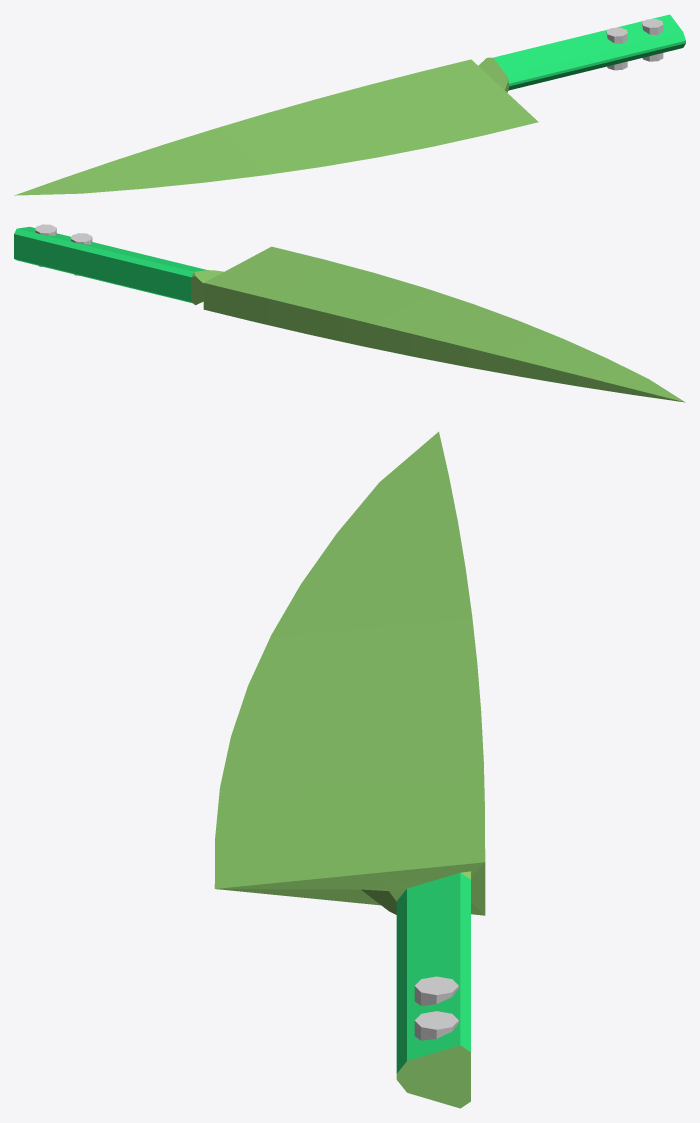
Rendered from Sharp Knife.fbx.
The picture shows the model from 3 angles, top to bottom: view 1: azimuth 30°, elevation 25°; view 2: azimuth 150°, elevation 25°; view 3: azimuth 270°, elevation 25°; orthographic projection. The views are drawn at different scales.
Visible parts, largest first — view 1: Cube, Cube_001; view 2: Cube, Cube_001; view 3: Cube, Cube_001.
Part boxes in pixels (bbox=[...]): Cube: bbox=[14, 19, 663, 195]; Cube_001: bbox=[493, 14, 685, 90]; Cube: bbox=[35, 224, 685, 402]; Cube_001: bbox=[14, 226, 206, 303]; Cube: bbox=[214, 431, 485, 1040]; Cube_001: bbox=[396, 872, 470, 1108].
Size of the model in its own units: 71.36 by 3.49 by 12.63.
